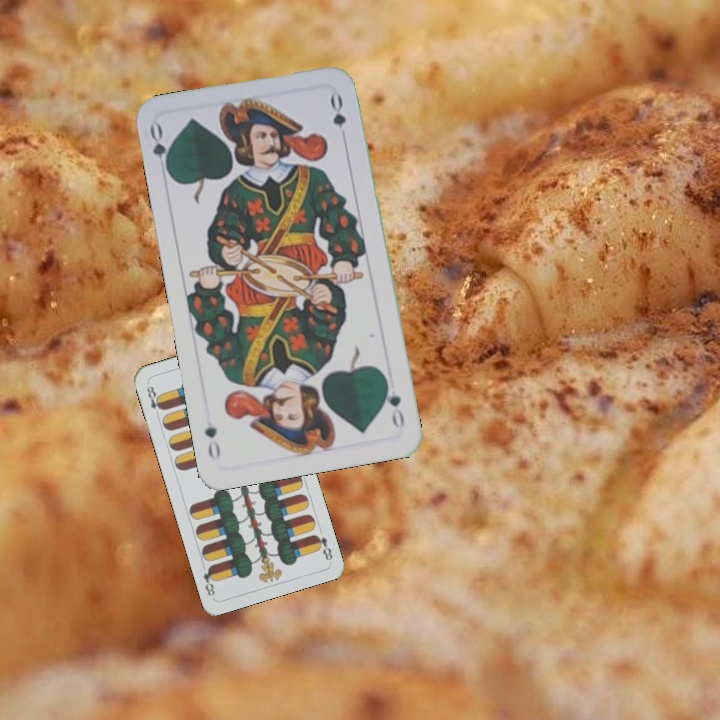E8: (143, 382, 166, 420), (310, 530, 335, 563)
GO: (145, 120, 174, 178), (380, 374, 407, 432)
